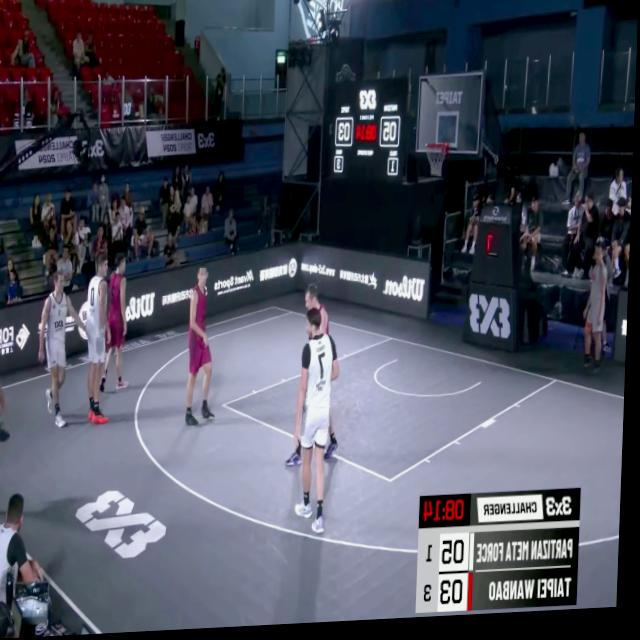hoop: (425, 142, 450, 185)
player: (285, 271, 349, 473), (293, 302, 344, 538), (40, 267, 87, 435), (84, 255, 117, 433), (190, 268, 225, 433), (103, 251, 133, 402)
